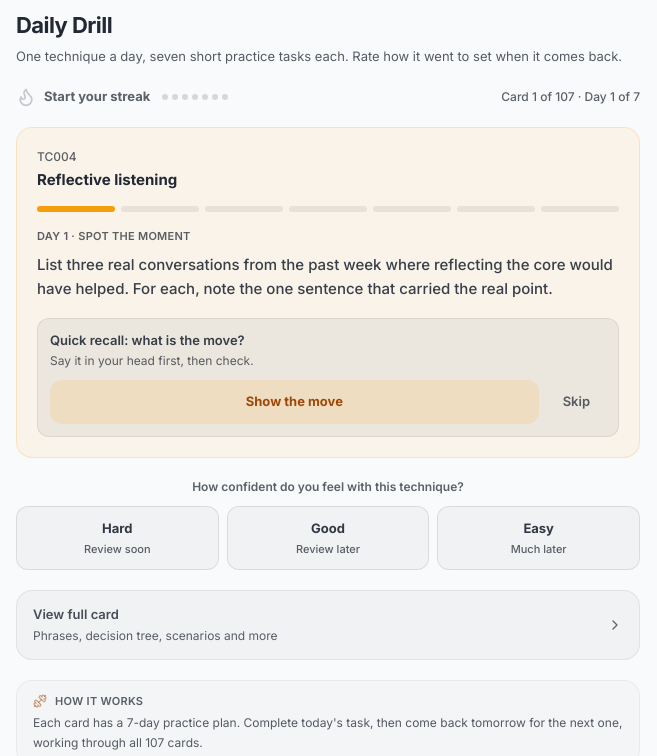
it: Drill page (F-12) › rating Easy: review much later completes the drill and schedules a review
Expected: the button with aria-label "Good: review later" is shown, [227,506,429,570]
Click the button with aria-label "Easy: review much later". click: (539, 538)
box: [437,506,640,570]
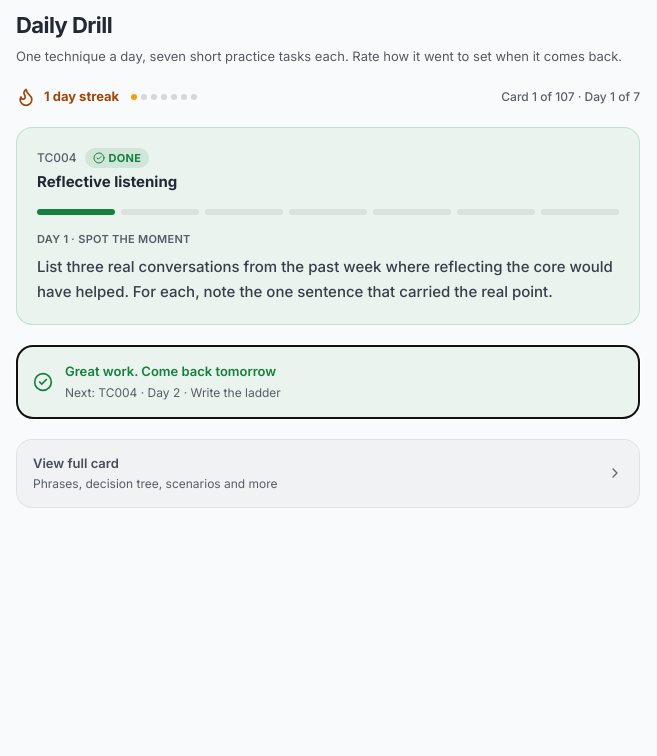
Now the text "Great work. Come back tomorrow" is shown, box [65,363,276,379]
Now the text "1 day streak" is shown, box [44,87,119,106]
